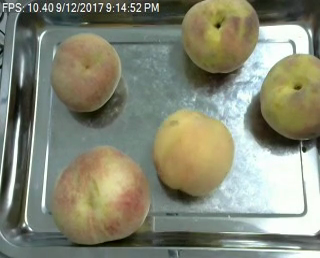Peach: (50, 144, 150, 244), (152, 108, 234, 197), (49, 32, 120, 113), (258, 52, 320, 140)
